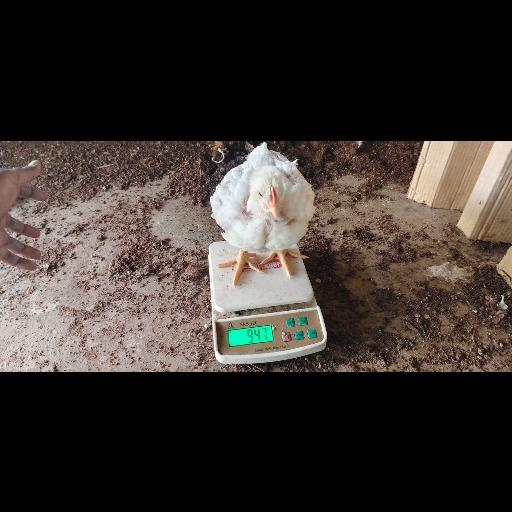chick: (210, 142, 315, 287)
